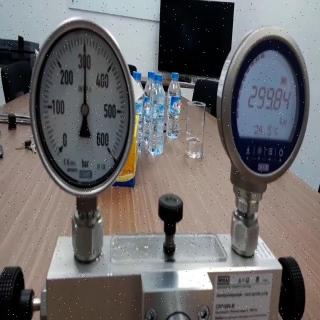gauge: (30, 10, 140, 198), (222, 27, 310, 184), (93, 131, 121, 165), (53, 139, 72, 161), (79, 104, 89, 115), (80, 38, 88, 50)
